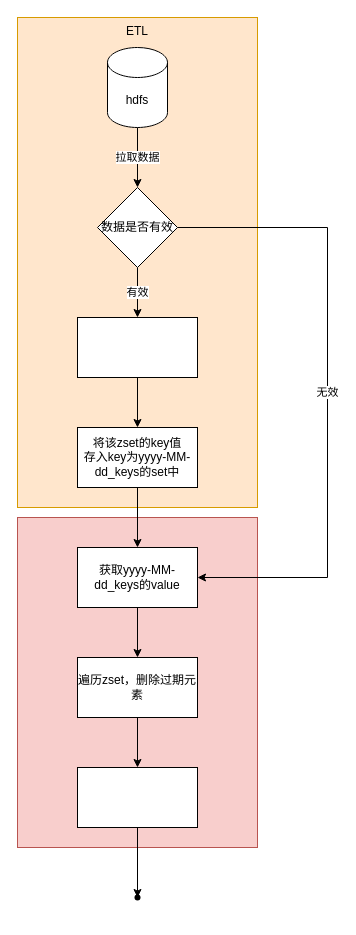
This 356x935 diagram has some shape labels left out. The box of each missing label's shape, as (x1, y1, x2, y2) in pixels:
remove: (16, 516, 258, 848)
删除 yyyy-MM-dd_keys 的set: (76, 766, 198, 828)
将数据存入zset中: (76, 316, 198, 378)
